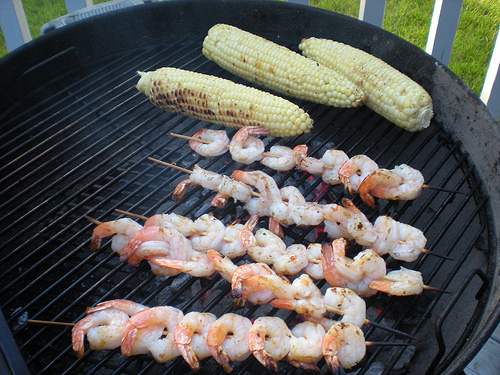corn: (134, 64, 315, 140), (298, 36, 435, 134)
